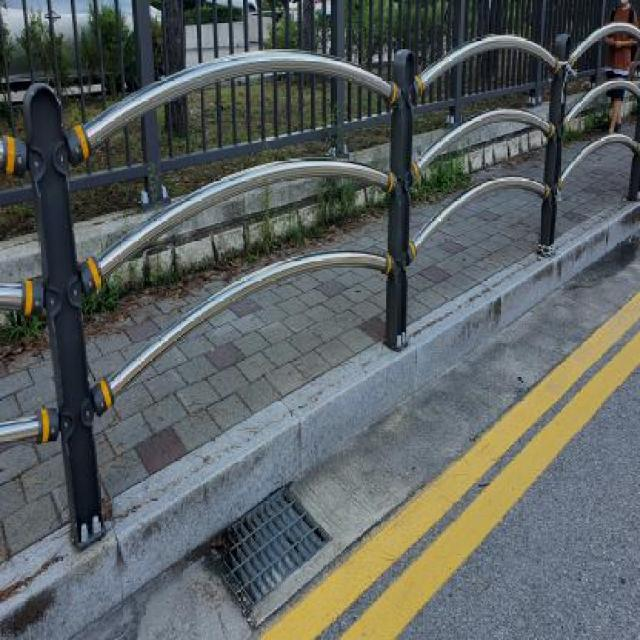bump: (0, 495, 234, 640), (224, 343, 378, 502), (391, 296, 472, 395)
fence: (0, 33, 452, 406), (386, 14, 640, 262)
